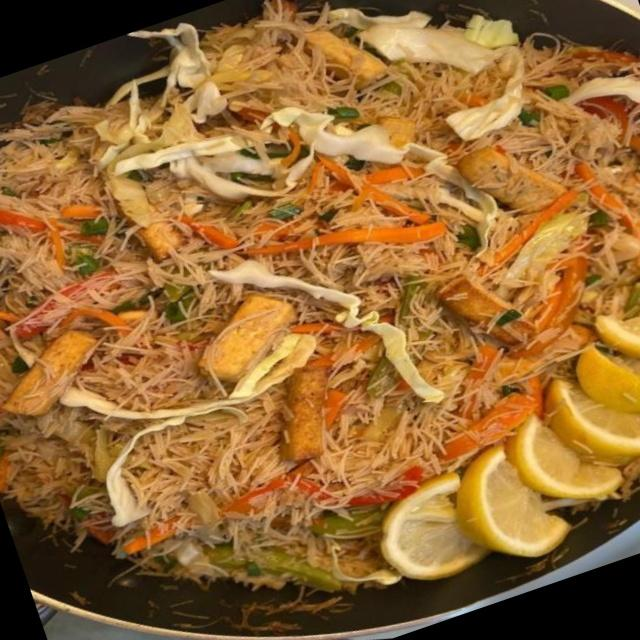pancit bihon: (0, 7, 636, 585)
